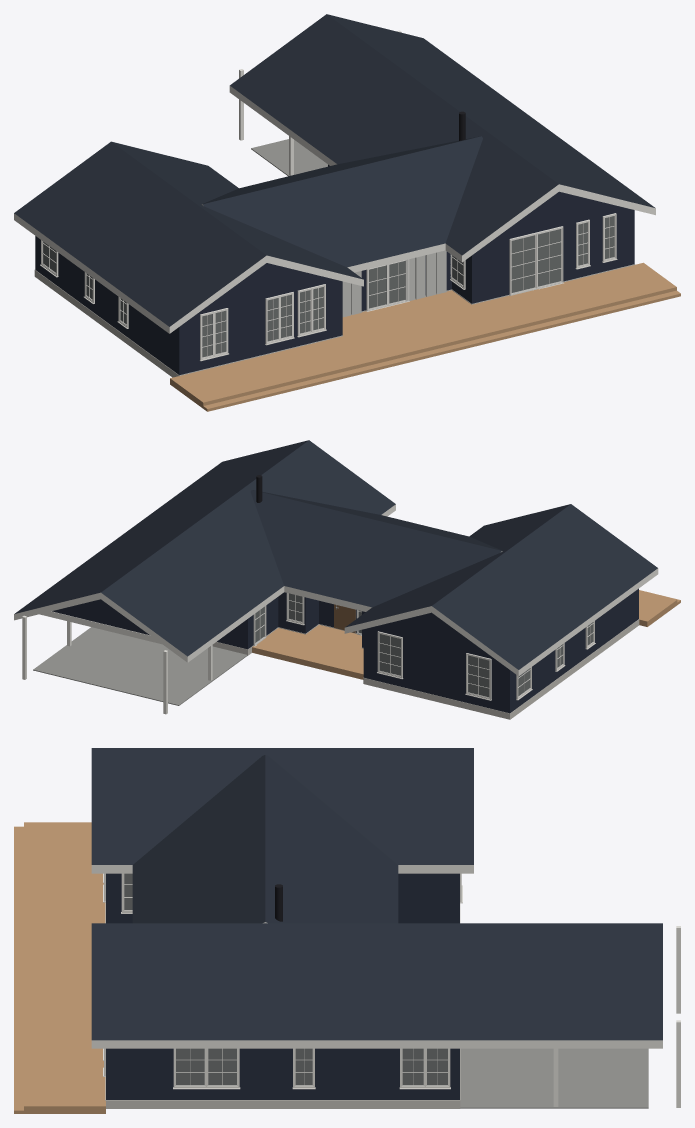
File: teder187_c1_p1_m1.glb
3 views of the same model, one above another, from view 1: azimuth 30°, elevation 25°; view 2: azimuth 150°, elevation 25°; view 3: azimuth 270°, elevation 25° (orthographic). The views are drawn at different scales.
Parts seen in each view (by area): view 1: roof, deck, wall, glass, curtain, fascia, frame, panel, plinth, paving; view 2: roof, wall, paving, fascia, deck, glass, curtain, plinth, frame, door; view 3: roof, deck, wall, paving, fascia, glass, curtain, plinth, frame.
Part boxes in pixels (left/top/right/bottom): roof: left=14, top=14, right=654, bottom=326; deck: left=170, top=262, right=680, bottom=411; wall: left=35, top=164, right=634, bottom=375; glass: left=43, top=216, right=614, bottom=357; curtain: left=43, top=216, right=613, bottom=356; fascia: left=14, top=30, right=655, bottom=333; frame: left=40, top=213, right=617, bottom=361; panel: left=342, top=250, right=446, bottom=317; plinth: left=34, top=264, right=635, bottom=377; paving: left=251, top=139, right=327, bottom=176; roof: left=15, top=440, right=657, bottom=669; wall: left=52, top=588, right=638, bottom=713; paving: left=33, top=627, right=247, bottom=705; fascia: left=14, top=504, right=658, bottom=714; deck: left=252, top=590, right=680, bottom=679; glass: left=255, top=593, right=593, bottom=697; curtain: left=255, top=593, right=592, bottom=696; plinth: left=212, top=619, right=639, bottom=719; frame: left=253, top=593, right=595, bottom=700; door: left=334, top=604, right=355, bottom=632; roof: left=91, top=748, right=662, bottom=1040; deck: left=14, top=822, right=105, bottom=1113; wall: left=106, top=873, right=459, bottom=1099; paving: left=460, top=1048, right=648, bottom=1108; fascia: left=91, top=865, right=680, bottom=1107; glass: left=124, top=873, right=447, bottom=1085; curtain: left=124, top=873, right=447, bottom=1084; plinth: left=105, top=902, right=460, bottom=1108; frame: left=103, top=873, right=462, bottom=1089.
Bounding box in the file's own units: 21.93 × 5.66 × 21.19.
Materials: 14 (5 with a texture image).
